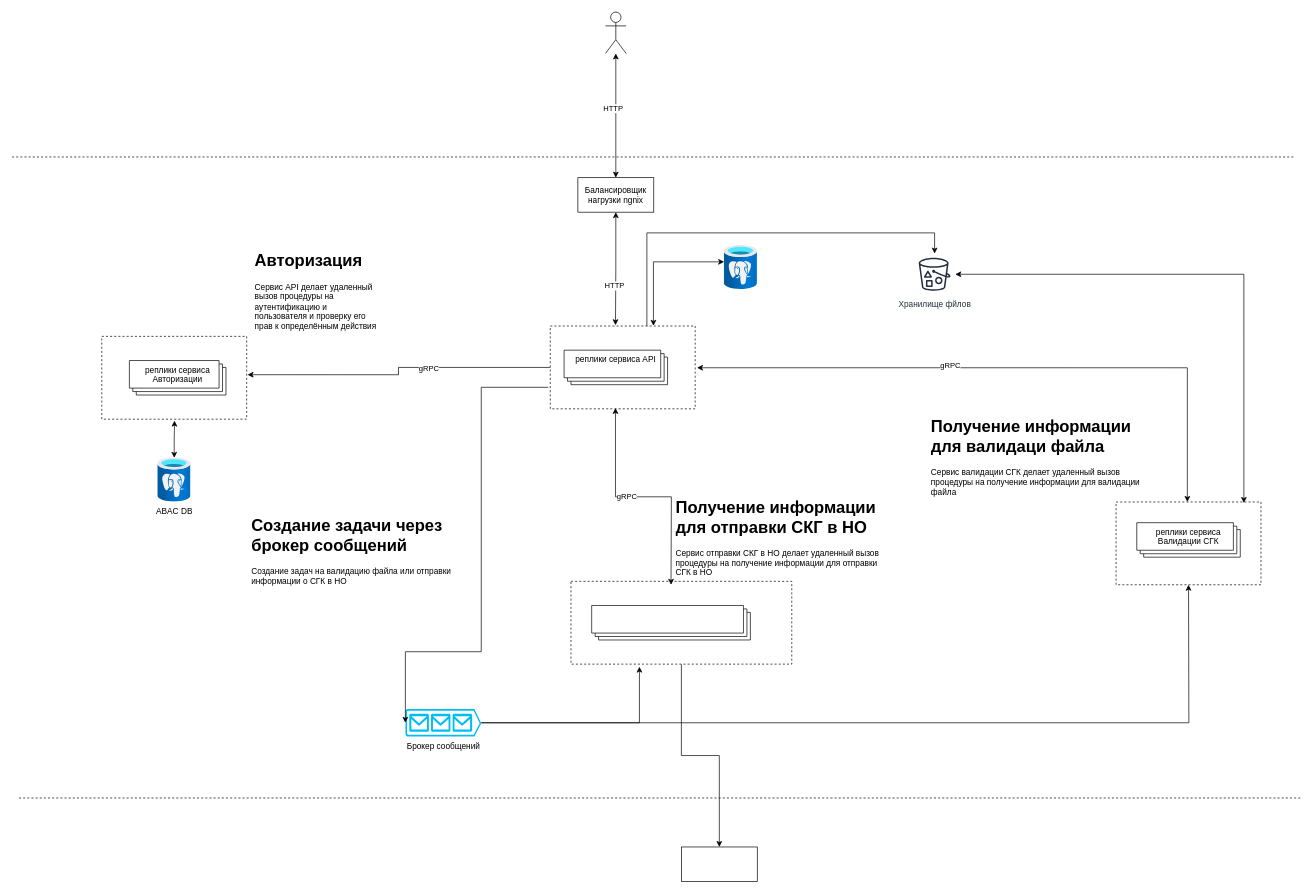
Some shapes in this 1315 by 894 pixel diagram are drawn without their labels. The shapes that lost their labels are listed below. From the top down, each one's box as (x1, y1, x2, y2) in pixels, then its label:
(605, 11, 626, 53): Пользователь
(591, 605, 750, 640): реплики сервиса отправки СГК в НО
(681, 846, 757, 881): ФНС
